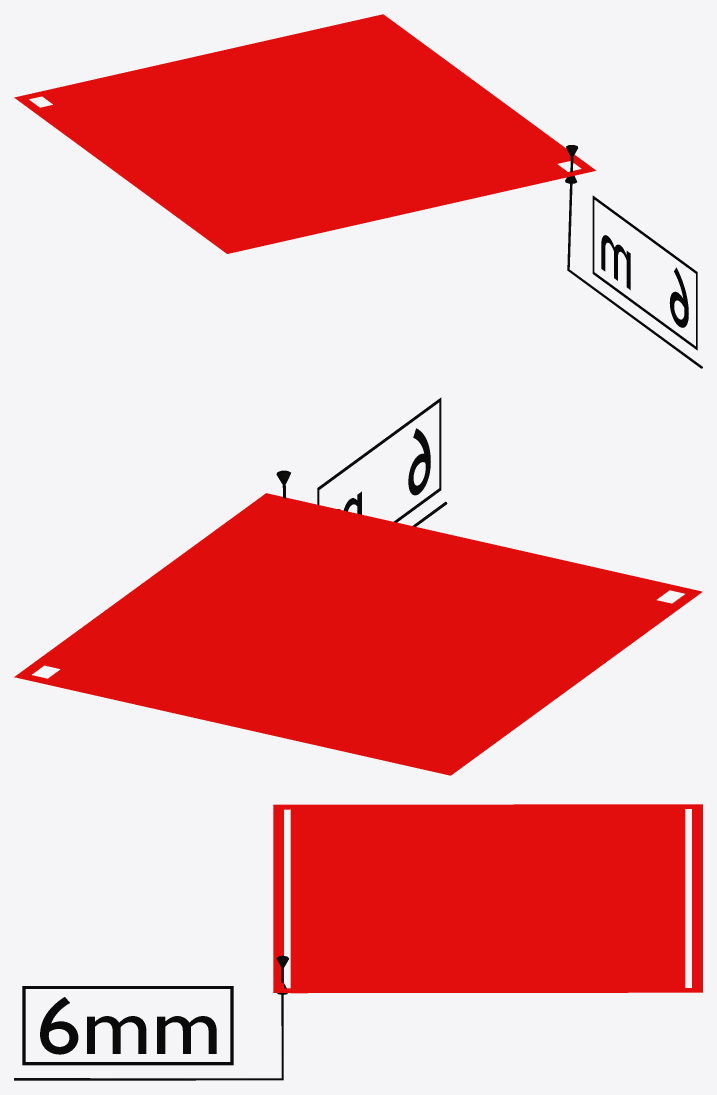
The picture shows the model from 3 angles, top to bottom: view 1: azimuth 30°, elevation 25°; view 2: azimuth 150°, elevation 25°; view 3: azimuth 270°, elevation 25°; orthographic projection. The views are drawn at different scales.
Visible parts, largest first — view 1: ZT_loclisation2, Text.004, cadre.001, NurbsPath.004; view 2: ZT_loclisation2, cadre.001, Text.004; view 3: ZT_loclisation2, Text.004, cadre.001, NurbsPath.004.
Part boxes in pixels (<box>): ZT_loclisation2: <box>14,14,596,253</box>; Text.004: <box>601,235,688,327</box>; cadre.001: <box>592,195,697,350</box>; NurbsPath.004: <box>567,157,702,368</box>; ZT_loclisation2: <box>14,493,702,775</box>; cadre.001: <box>317,397,441,522</box>; Text.004: <box>337,428,430,514</box>; ZT_loclisation2: <box>273,804,702,993</box>; Text.004: <box>40,997,216,1054</box>; cadre.001: <box>22,986,233,1065</box>; NurbsPath.004: <box>14,967,283,1080</box>.
Size of the model in its own units: 3.28 by 1.04 by 5.25.
